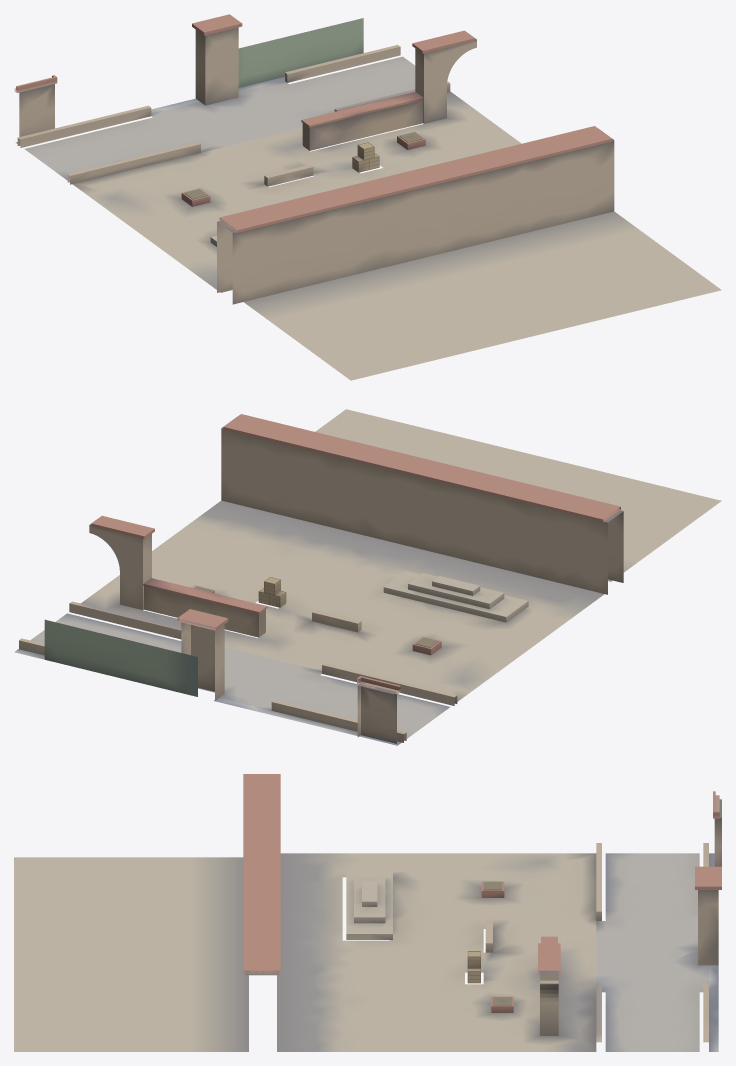
3 views of the same model, one above another, from view 1: azimuth 30°, elevation 25°; view 2: azimuth 150°, elevation 25°; view 3: azimuth 270°, elevation 25° (orthographic). The views are drawn at different scales.
Parts seen in each view (by area): view 1: t; view 2: t; view 3: t.
Boxes of the visible parts, x1,y1,x2,y2 form: t: (14,14,721,380); t: (14,409,721,745); t: (14,774,721,1051).
Bounding box in the file's own units: 50.4 × 9.4 × 75.37.
